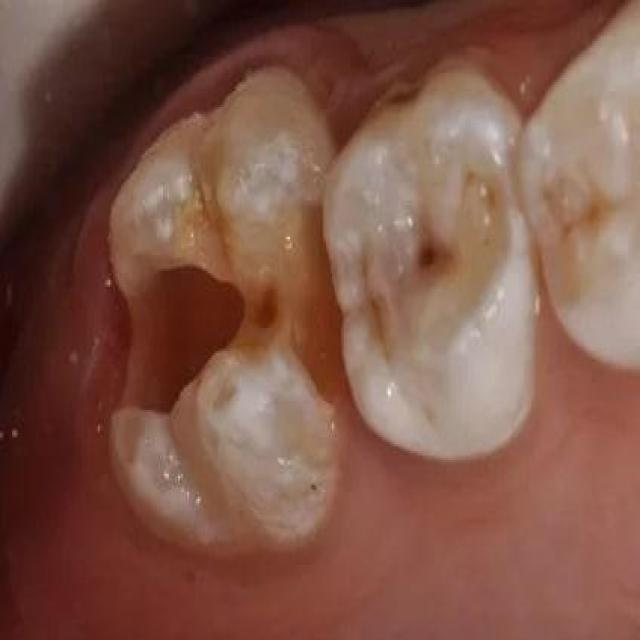Caries: (421, 248, 435, 269)
Cavity: (113, 191, 349, 412)
Tooth: (109, 61, 350, 558), (323, 52, 537, 469), (516, 0, 638, 374)
